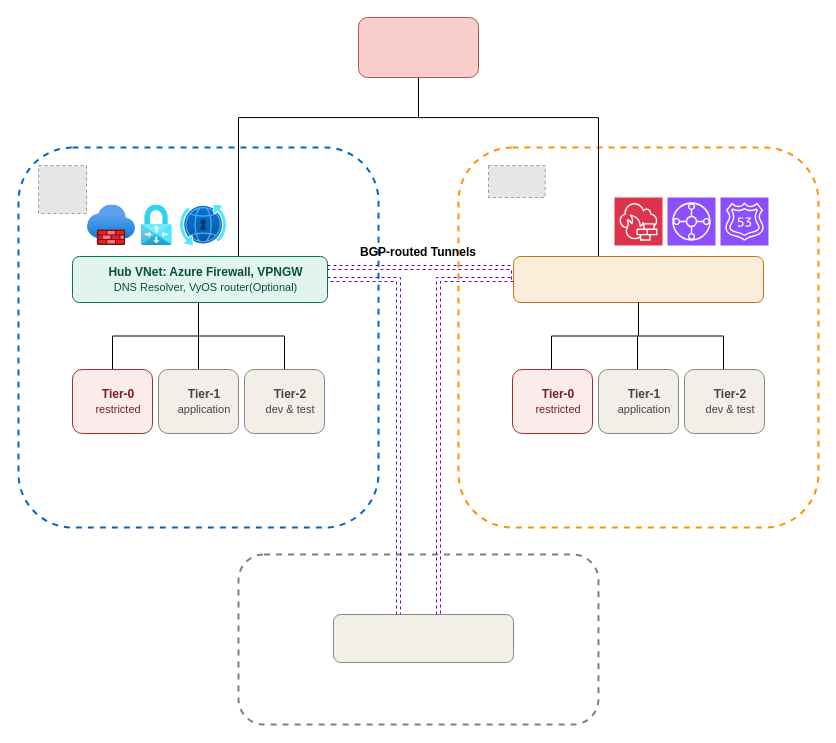
Image size: 836x743. Some labels were removed from this diagram. Grey dashed boxes stand in for pictures. The centre of each missing label's shape, as x and y in pixels:
"Hub VPC: Network Firewall, TGW Route 53 Resolver, VyOS router(Optional)" belongs at (x=638, y=279).
"Internet" belongs at (x=418, y=47).
"Simulated on-premises VyOS router" belongs at (x=423, y=638).
